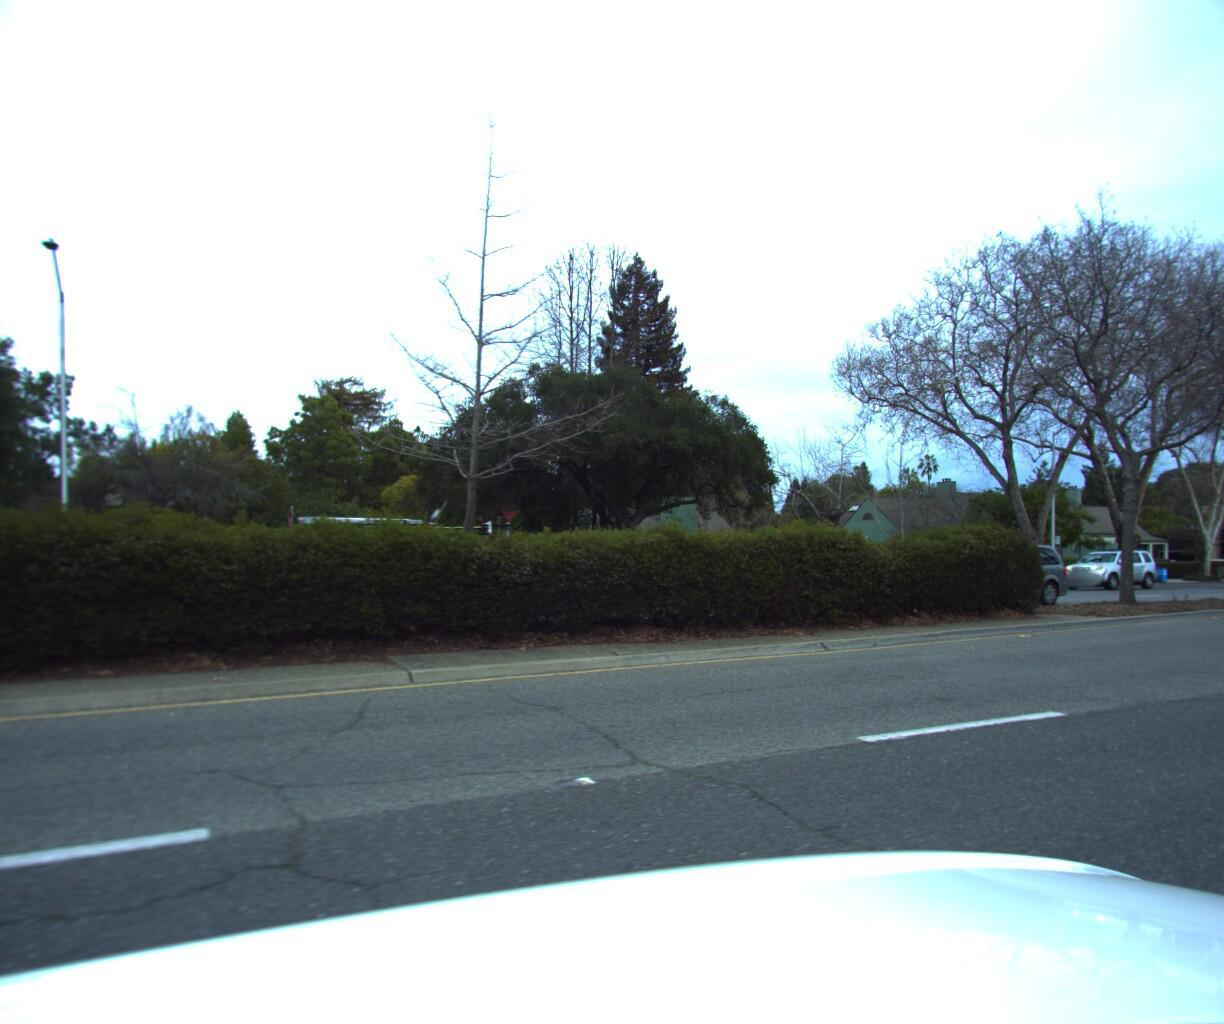car: (263, 502, 548, 628), (884, 545, 1072, 609), (1054, 542, 1161, 588), (1218, 538, 1224, 585)
